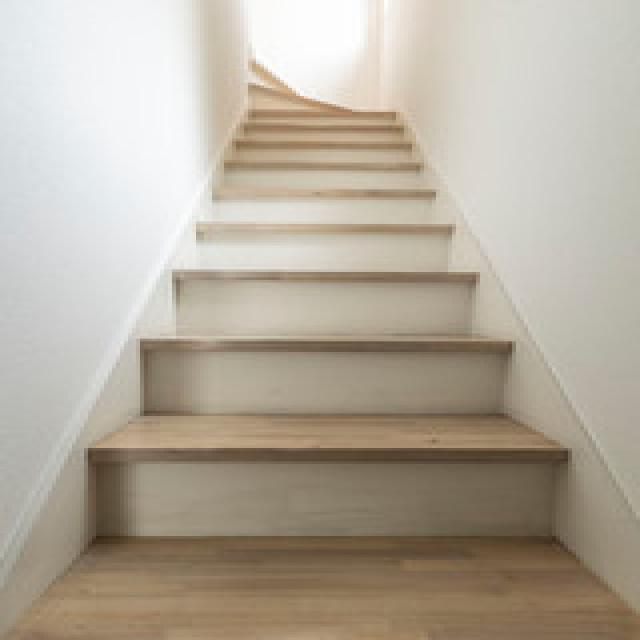stair: (92, 88, 567, 535)
